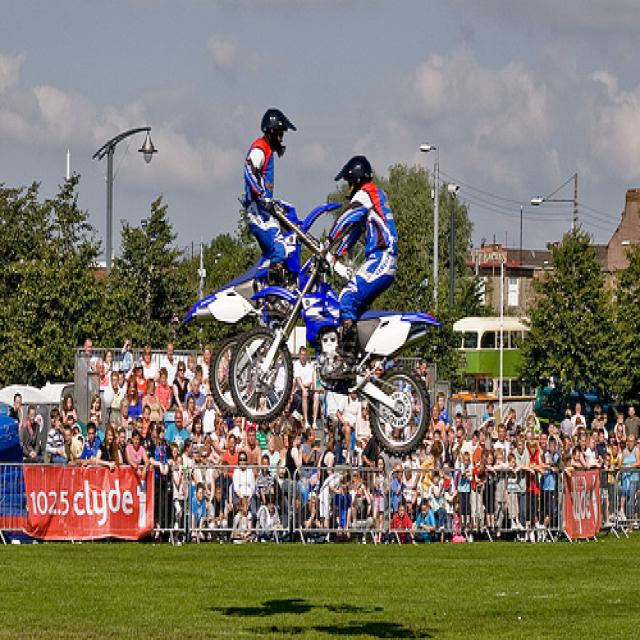motor: (245, 254, 433, 455), (192, 204, 343, 422)
